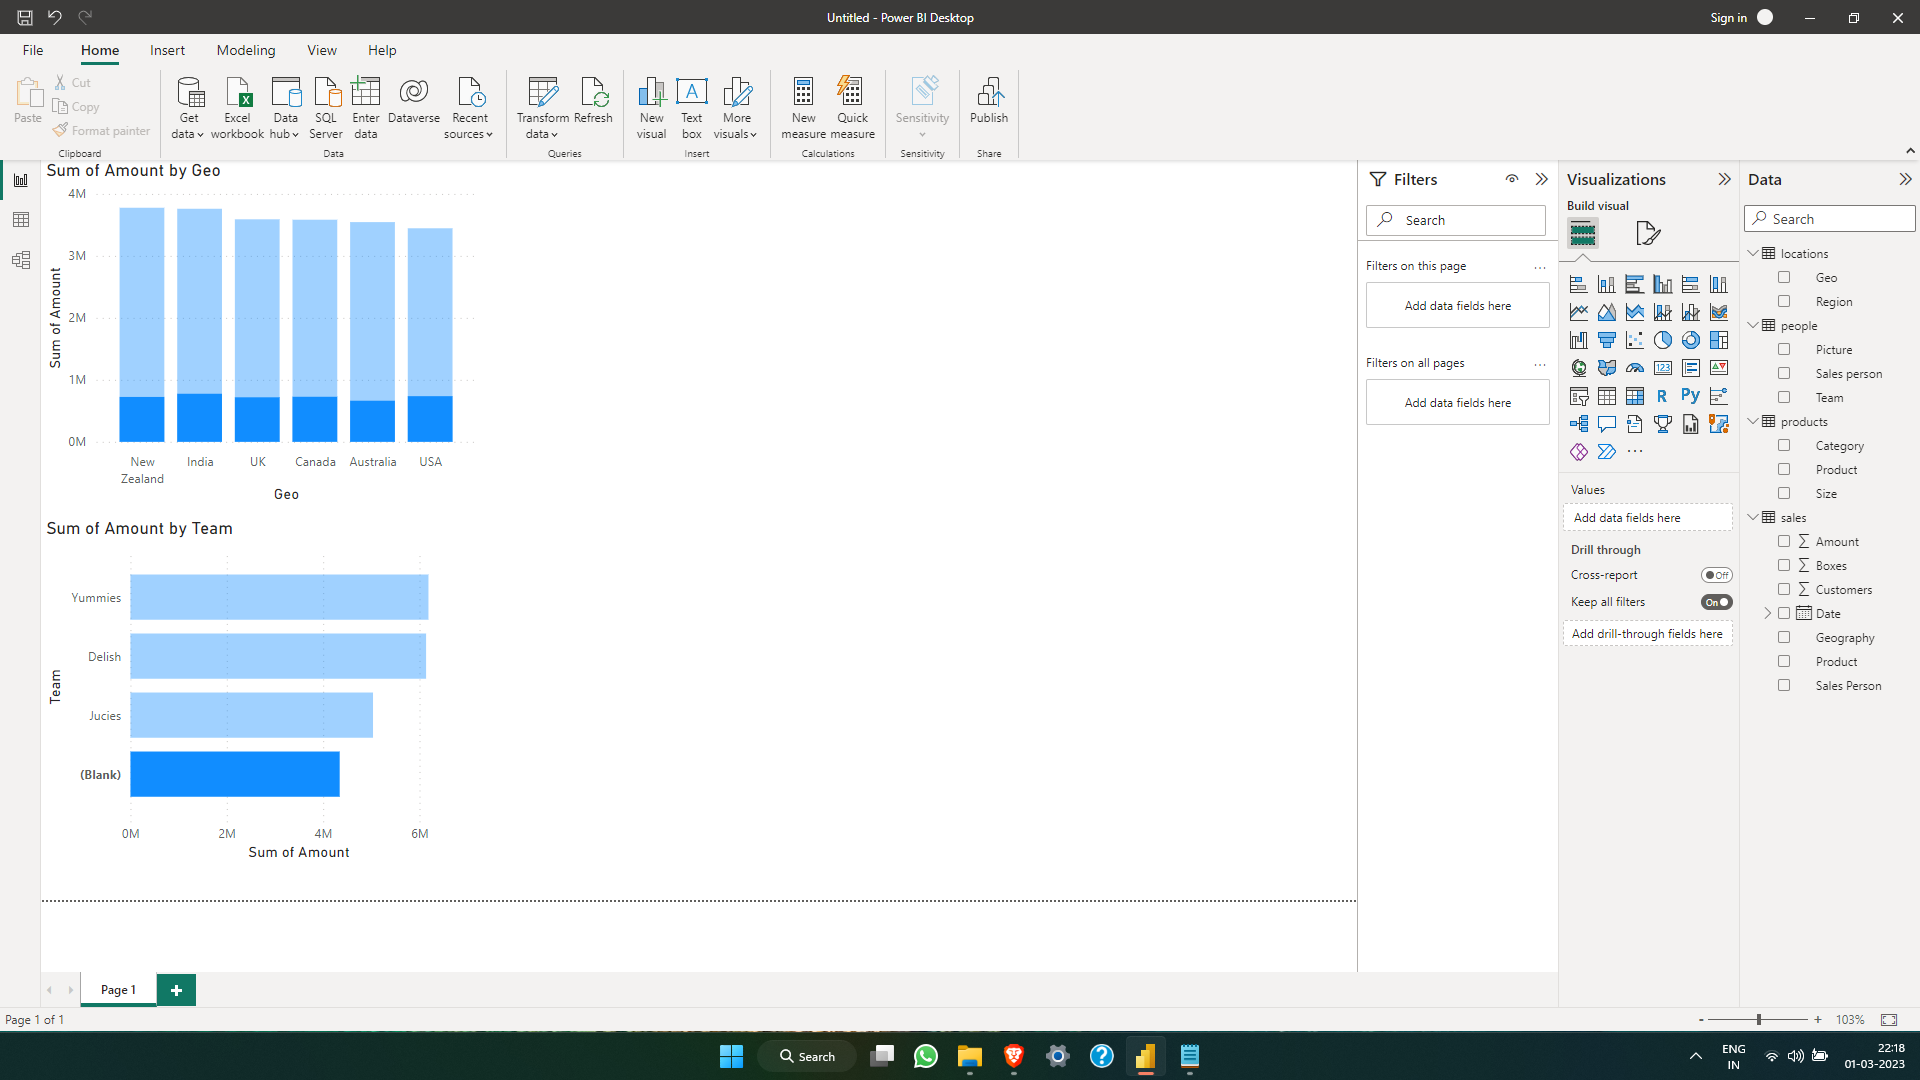

The dashboard page shown, as its layout file describes it:
{"tool":"powerbi","page":{"name":"insights 1","canvas":[1280,720],"ordinal":0},"visuals":[{"type":"columnChart","fields":{"Category":["locations.Geo"],"Y":["Sum(sales.Amount)"]},"box":[0,0,428.9,338.5],"z":0},{"type":"clusteredBarChart","fields":{"Category":["people.Team"],"Y":["Sum(sales.Amount)"]},"box":[0,348,429,338],"z":1000}]}

Visuals, with their boxes on the page's 1280x720 design canvas (x1, y1, x2, y2). These are canvas units, not pixel positions in the 1920x1080 screenshot, which may show the page scaled, cropped or inside an application window:
columnChart - locations.Geo x Sum(sales.Amount): BBox(0, 0, 429, 338)
clusteredBarChart - people.Team x Sum(sales.Amount): BBox(0, 348, 429, 686)
